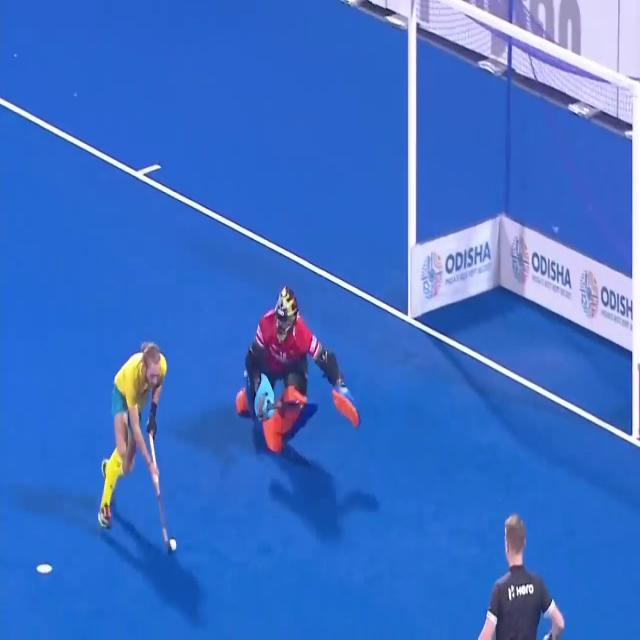ball: (158, 520, 190, 561)
